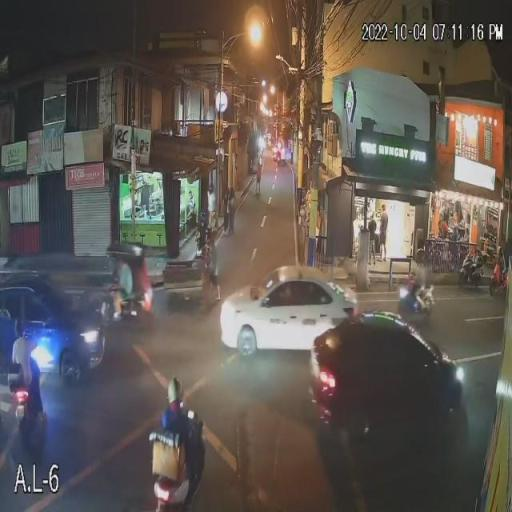helmet: (161, 375, 189, 408), (8, 314, 37, 342), (409, 250, 431, 272)
motorcycle: (146, 406, 206, 512), (7, 357, 49, 453), (388, 275, 439, 314)
rider: (157, 407, 197, 476), (11, 335, 43, 388), (406, 265, 431, 311)
